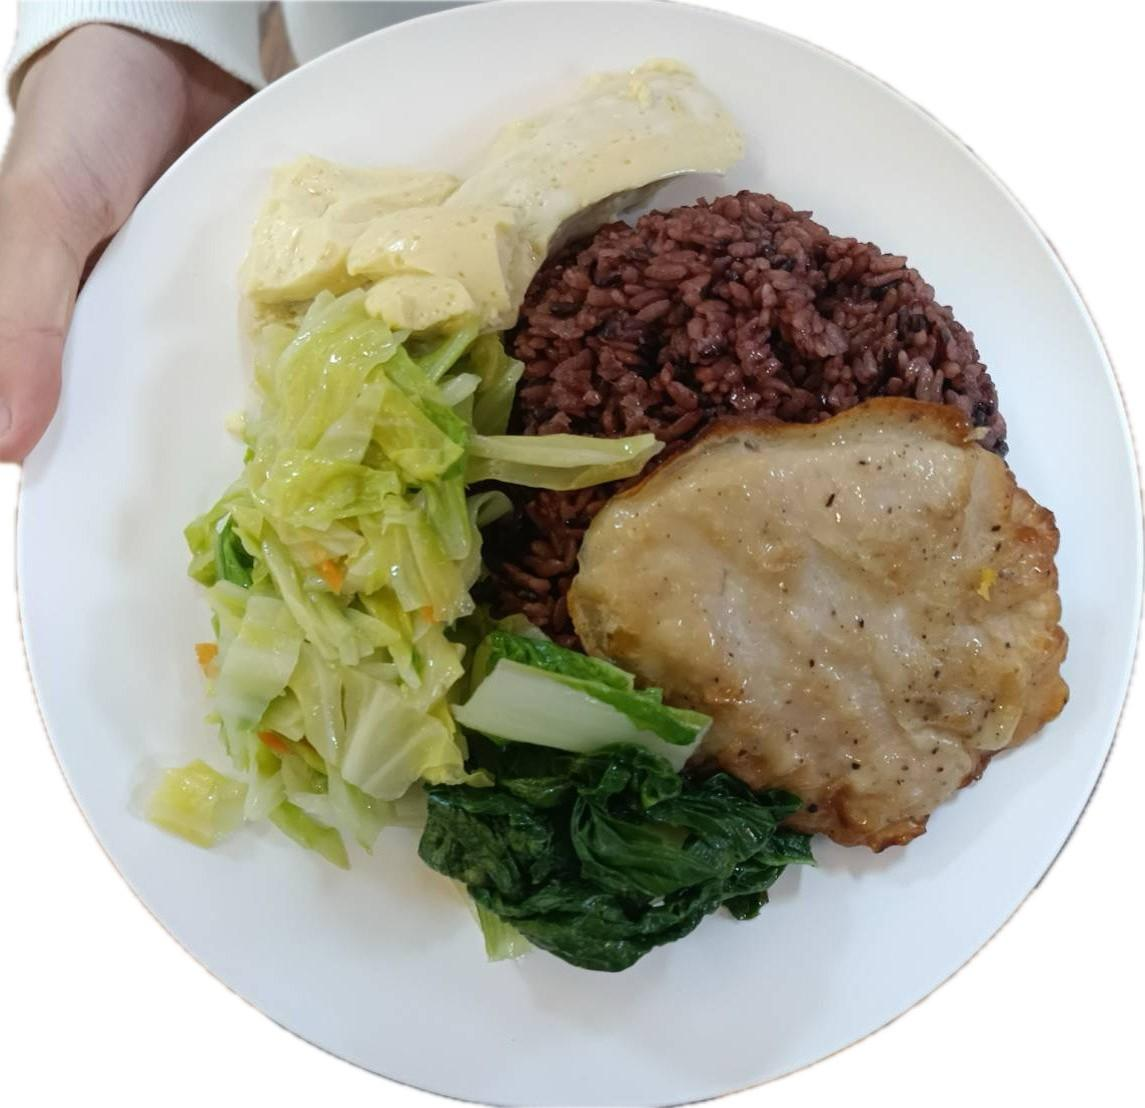big fried chicken leg: (0, 3, 1145, 1108)
braised fish: (508, 198, 1006, 642)
braised fish fillet: (150, 290, 506, 889), (240, 53, 738, 354), (438, 618, 804, 971)
braised pork: (572, 388, 1078, 858)
